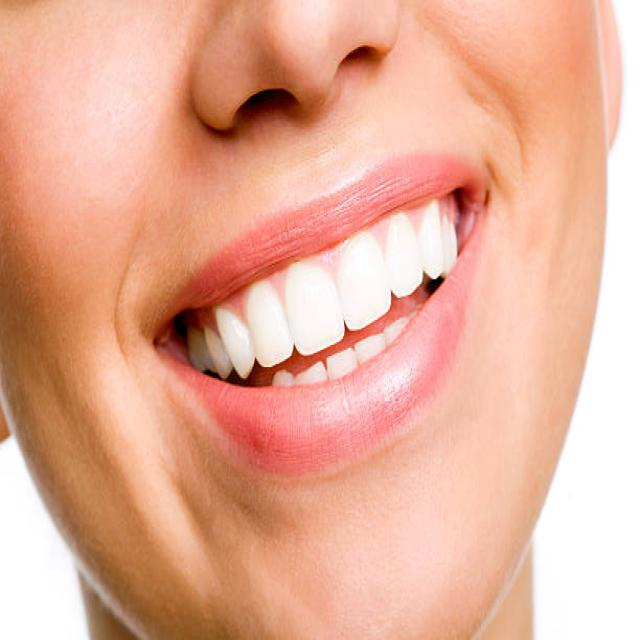tooth: (278, 271, 342, 350), (333, 253, 388, 326), (242, 295, 286, 367), (379, 223, 424, 293), (218, 317, 250, 370), (421, 204, 444, 271), (205, 326, 228, 380), (298, 356, 326, 383), (354, 334, 385, 356), (268, 364, 298, 386), (328, 347, 352, 373), (448, 224, 460, 264)
